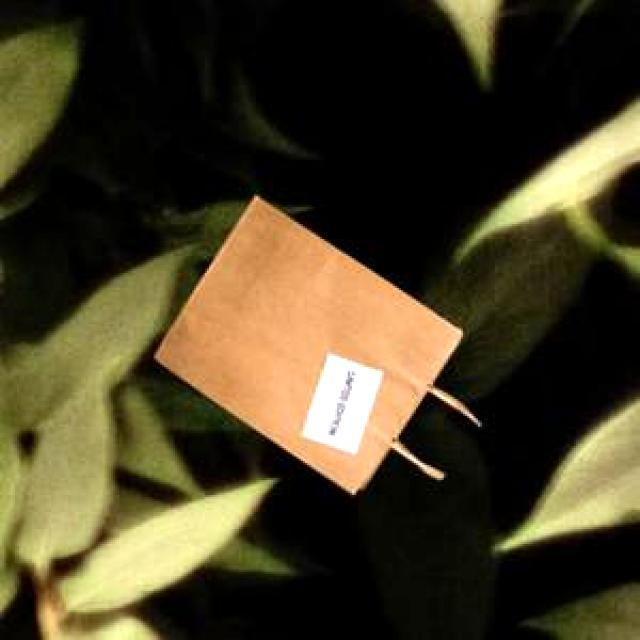Paper_Bag: (152, 193, 477, 492)
